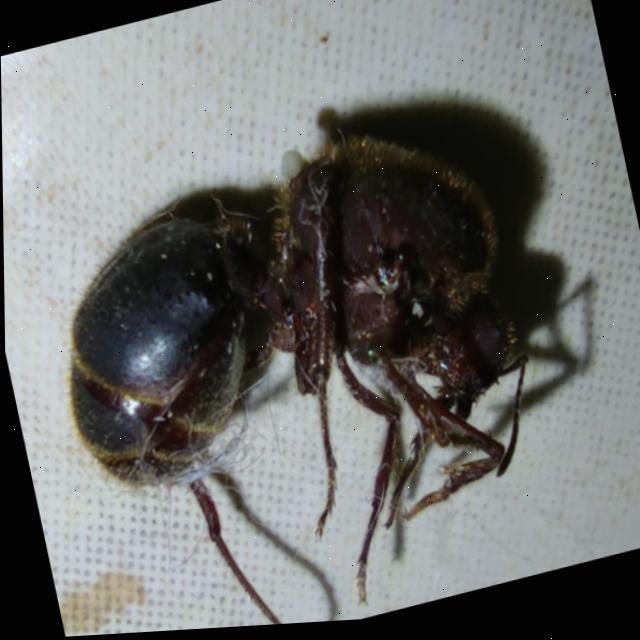Dead-Female-Dealate: (21, 95, 573, 639)
